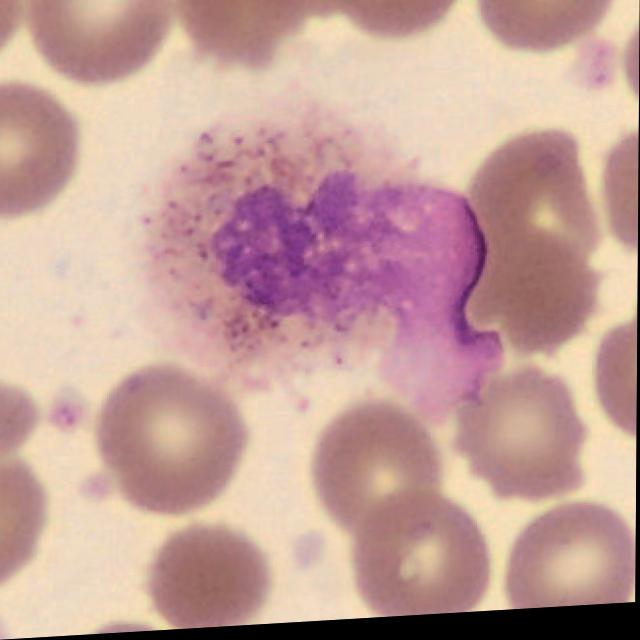Restos celulares: (140, 125, 502, 427)
